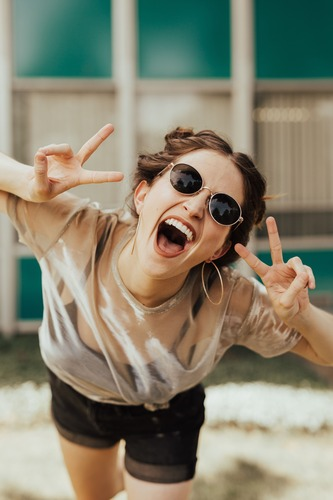without_mask: (136, 151, 245, 269)
